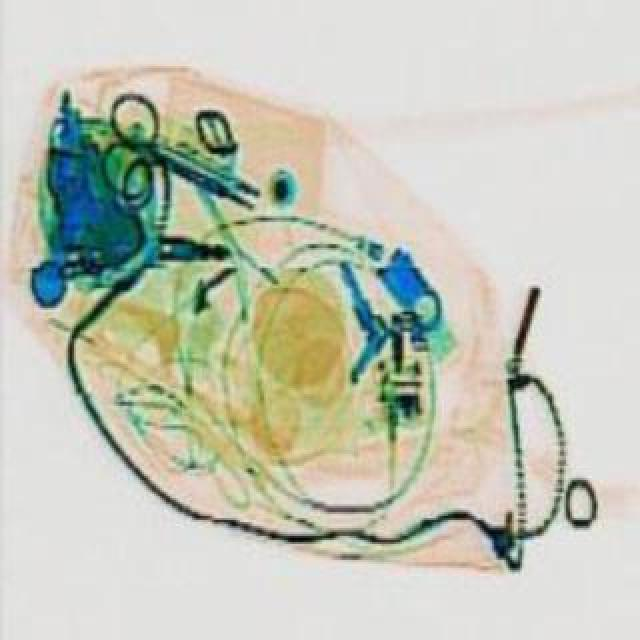pliers: (80, 96, 284, 254)
